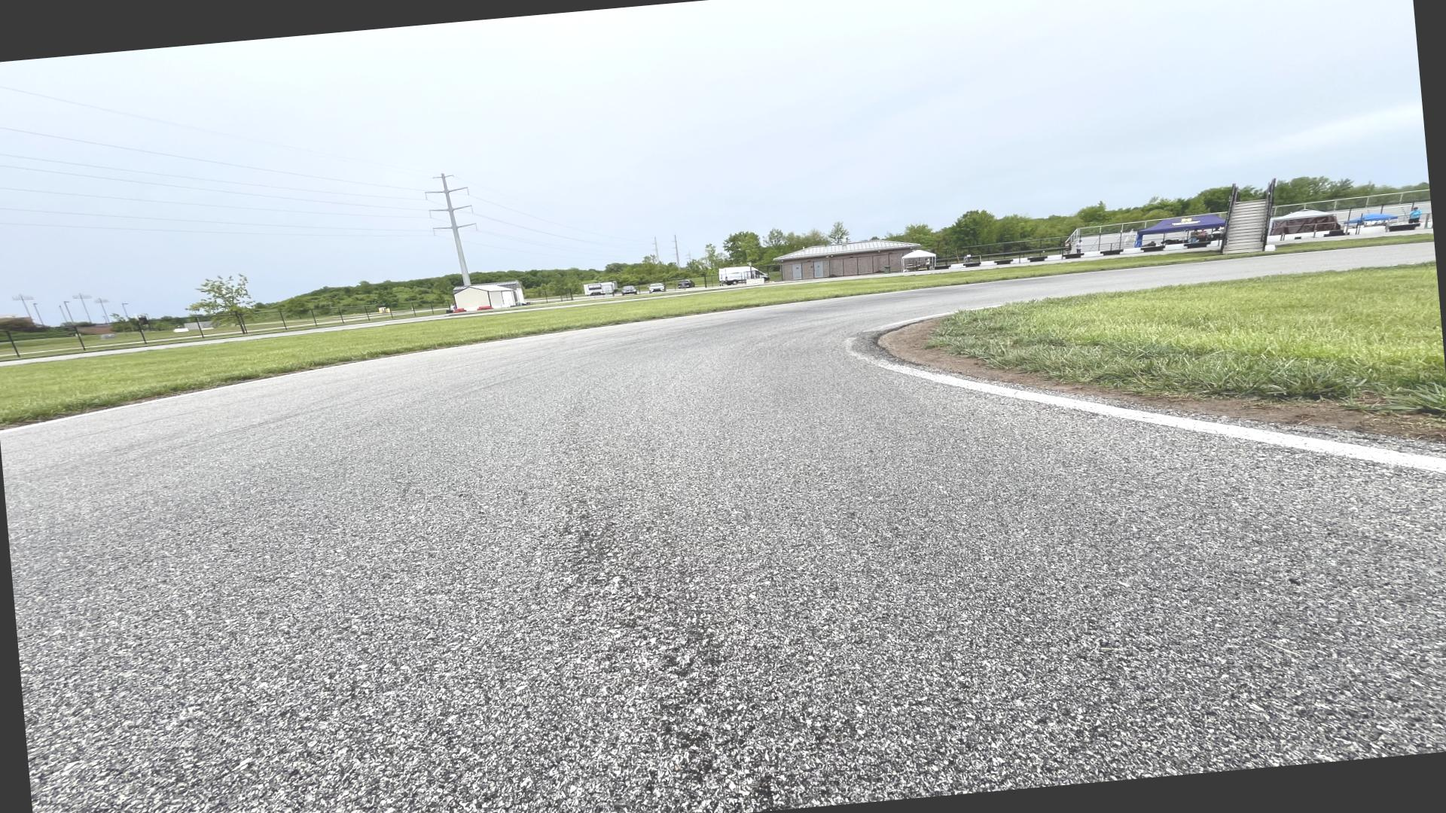white-line: (0, 288, 934, 434), (847, 338, 1445, 476), (865, 306, 1003, 332)
